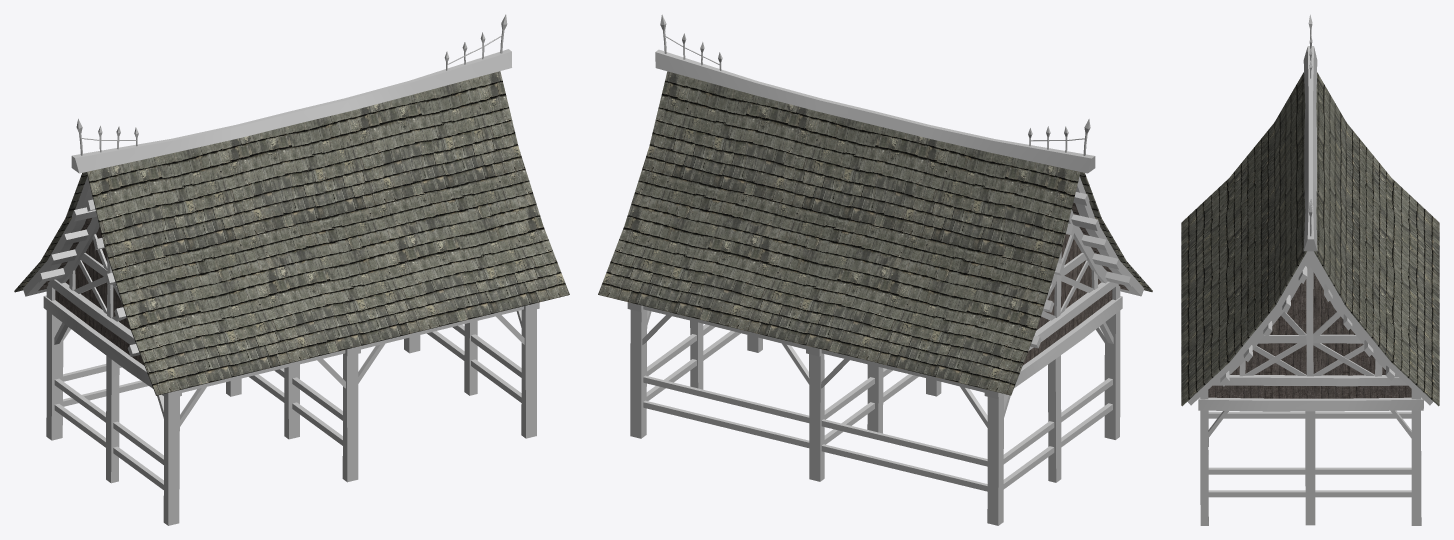
File: mw_type_1_barn_01.FBX
The picture shows the model from 3 angles, left to right: view 1: azimuth 30°, elevation 25°; view 2: azimuth 150°, elevation 25°; view 3: azimuth 270°, elevation 25°; orthographic projection. The views are drawn at different scales.
Parts seen in each view (by area): view 1: mw_type_1_barn_roof, mw_type_1_barn_wood, mw_type_1_barn; view 2: mw_type_1_barn_roof, mw_type_1_barn_wood, mw_type_1_barn; view 3: mw_type_1_barn_roof, mw_type_1_barn_wood.
Part boxes in pixels (x1,y1,x2,y2): mw_type_1_barn_roof: (14, 71, 569, 395); mw_type_1_barn_wood: (23, 49, 539, 525); mw_type_1_barn: (76, 14, 507, 155); mw_type_1_barn_roof: (598, 71, 1152, 395); mw_type_1_barn_wood: (627, 49, 1144, 525); mw_type_1_barn: (660, 14, 1090, 155); mw_type_1_barn_roof: (1181, 72, 1439, 406); mw_type_1_barn_wood: (1187, 46, 1433, 525).
Size of the model in its own units: 1213 by 982 by 685.
